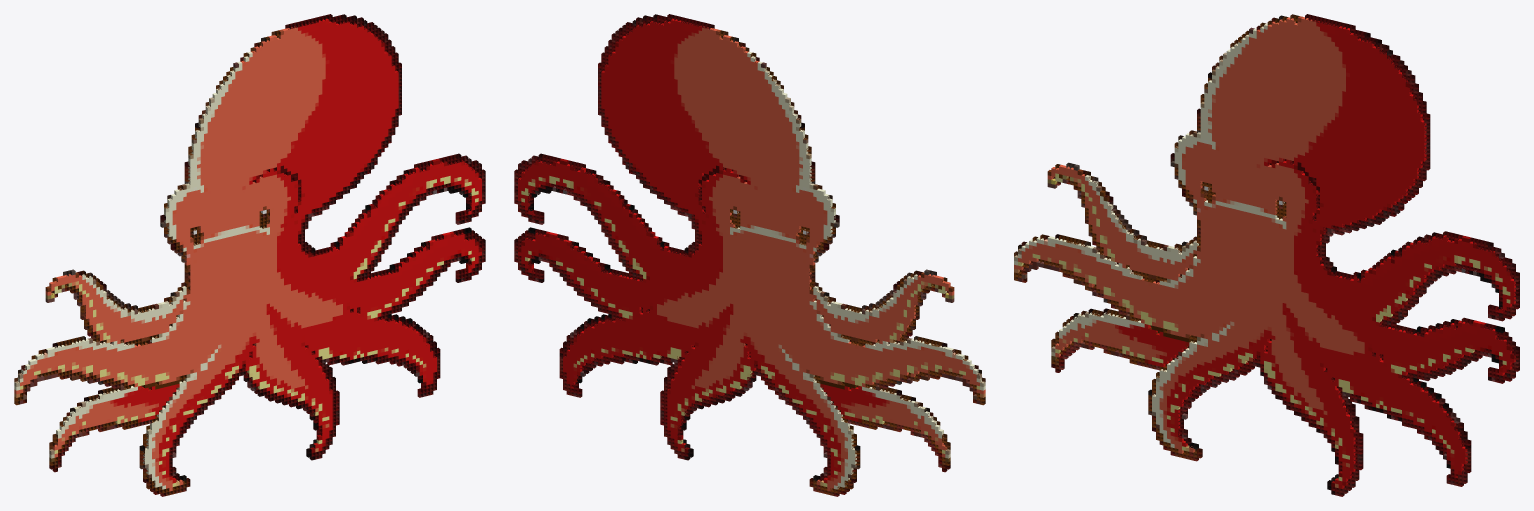
File: octo_135x121x1.obj
The picture shows the model from 3 angles, left to right: view 1: azimuth 30°, elevation 25°; view 2: azimuth 150°, elevation 25°; view 3: azimuth 330°, elevation 25°; orthographic projection. The views are drawn at different scales.
Bounding box in the file's own units: 10.07 × 9.03 × 0.0746.
